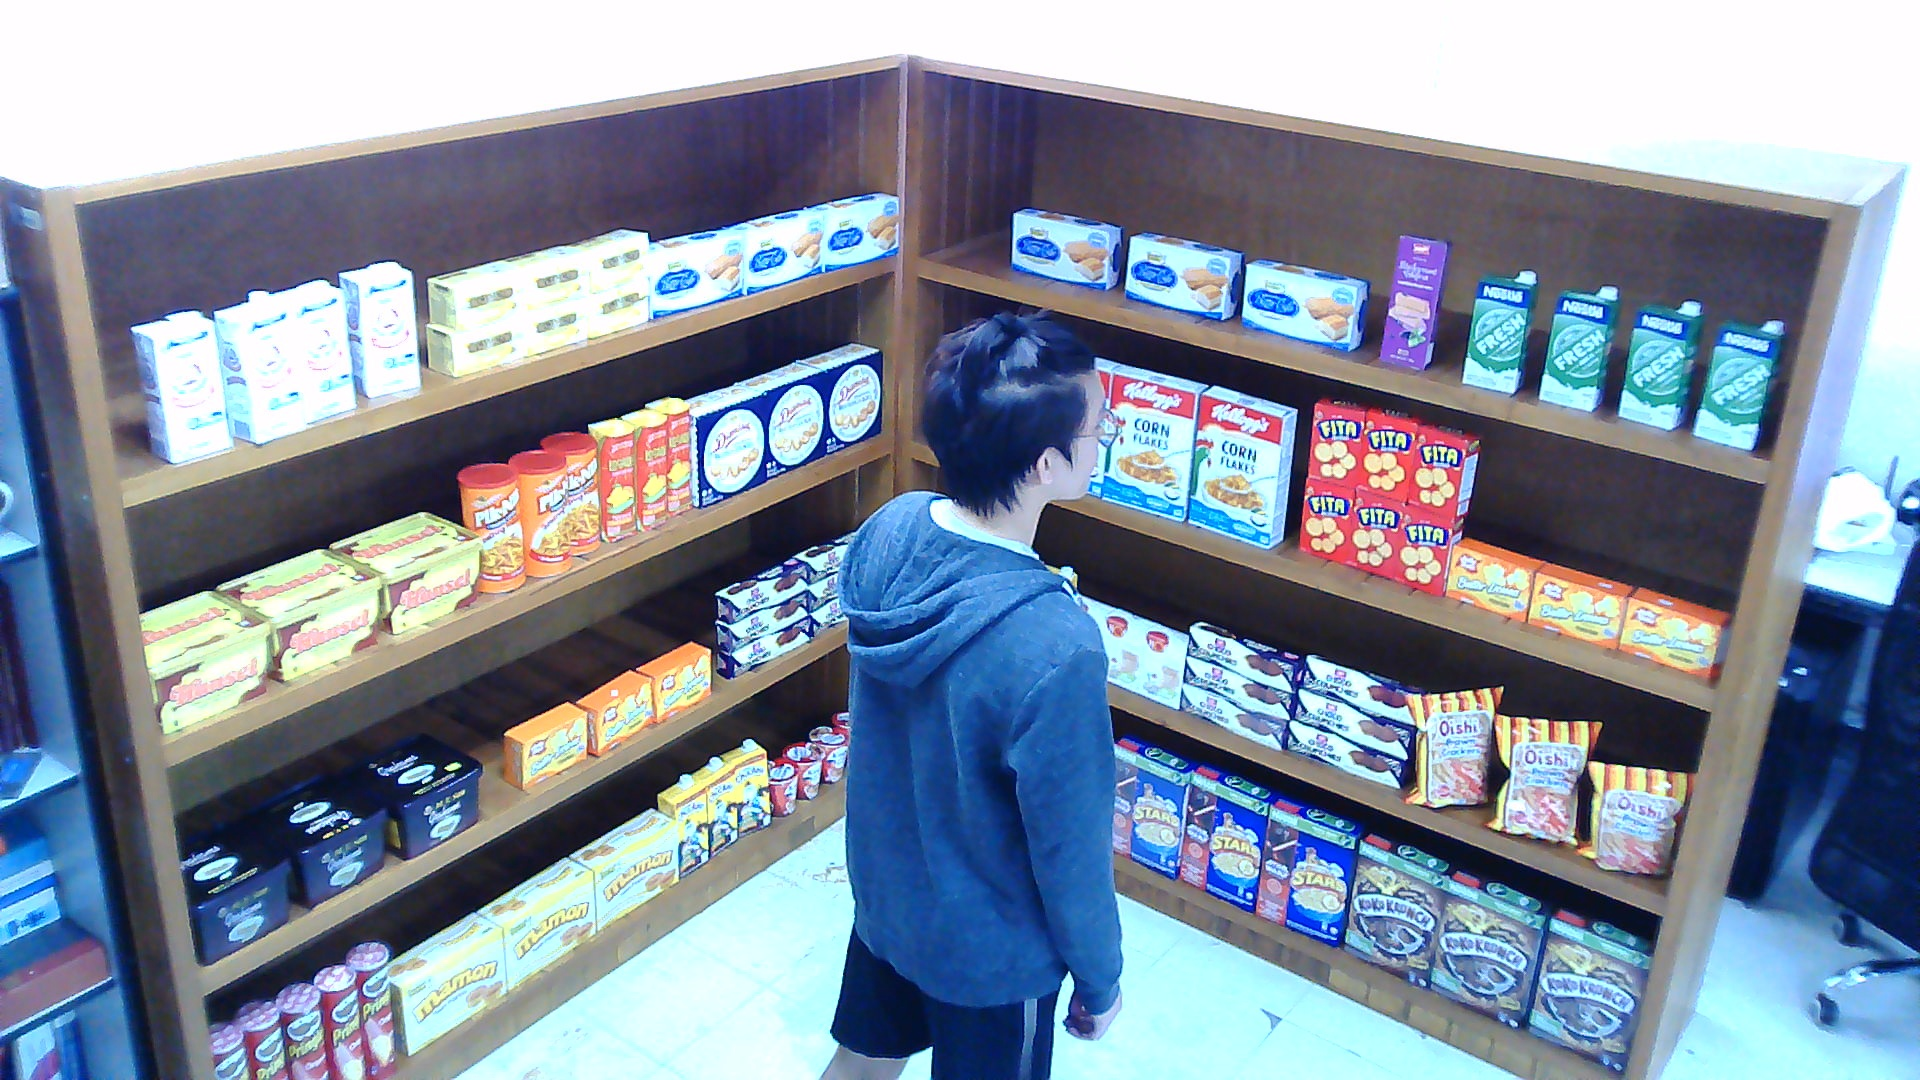Bear brand: (128, 310, 233, 461), (212, 288, 305, 443), (276, 279, 357, 423), (336, 261, 420, 398)
Buttercake: (1239, 259, 1371, 351), (1125, 232, 1245, 322), (1011, 207, 1125, 290), (648, 227, 744, 319), (728, 207, 821, 295), (809, 191, 896, 272)
Butterlicious: (1619, 585, 1730, 677), (1526, 562, 1631, 648), (1445, 535, 1544, 621), (501, 702, 585, 790), (575, 668, 650, 756), (635, 641, 710, 722)
Camomille: (426, 259, 522, 329), (425, 314, 524, 375), (566, 227, 647, 295), (507, 245, 585, 313), (525, 296, 588, 355), (588, 278, 648, 337)
Choco Crunchies: (1302, 652, 1428, 724), (1185, 621, 1305, 693), (1287, 720, 1410, 788), (1293, 688, 1413, 758), (1182, 656, 1296, 717), (1179, 684, 1287, 749), (714, 556, 807, 626), (714, 589, 807, 652), (716, 616, 809, 677), (792, 524, 858, 585), (810, 601, 846, 639), (809, 574, 836, 612)
Chuckie: (657, 774, 708, 877), (719, 738, 770, 837), (690, 756, 738, 857), (1044, 565, 1077, 587)
Danisa: (737, 360, 824, 482), (684, 382, 765, 506), (795, 341, 882, 454)
Fita: (1355, 404, 1430, 501), (1407, 423, 1482, 517), (1392, 504, 1464, 594), (1308, 396, 1374, 486), (1346, 488, 1403, 578), (1299, 477, 1353, 563)
Fresh Milk: (1692, 320, 1785, 450), (1617, 299, 1707, 429), (1539, 284, 1623, 412), (1461, 270, 1539, 394)
Grahams: (243, 769, 387, 909), (176, 814, 293, 965), (342, 731, 480, 859)
Hansel: (216, 549, 381, 679), (138, 590, 270, 734), (326, 511, 479, 635)
Head: (906, 304, 1128, 522)
Honey Stars: (1254, 794, 1368, 947), (1178, 763, 1283, 911), (1110, 734, 1200, 882)
Kellogg Corn Flakes: (1188, 385, 1296, 549), (1101, 364, 1209, 521), (1095, 355, 1125, 407), (1086, 441, 1104, 497)
Kimchi Noodles: (807, 724, 849, 783), (780, 740, 822, 799), (768, 755, 798, 816), (831, 711, 846, 731)
Koko Krunch: (1526, 906, 1655, 1075), (1431, 866, 1557, 1030), (1344, 830, 1458, 990)
Locally Mango: (588, 416, 636, 542), (645, 396, 693, 518), (620, 407, 665, 531)
Mamon: (390, 911, 507, 1057), (476, 855, 593, 990), (567, 808, 678, 932)
Oishi Prawn: (1484, 713, 1601, 846), (1575, 760, 1695, 875), (1401, 684, 1503, 808)
Pik-nik: (456, 461, 525, 594), (507, 448, 570, 576), (540, 432, 600, 554)
Pringles: (345, 938, 396, 1078), (311, 962, 362, 1077), (275, 980, 326, 1077), (230, 998, 287, 1077), (207, 1024, 249, 1078)
Wafer: (1380, 234, 1452, 371)
iHop: (1104, 607, 1158, 690), (1137, 623, 1185, 709), (1080, 593, 1116, 636)
